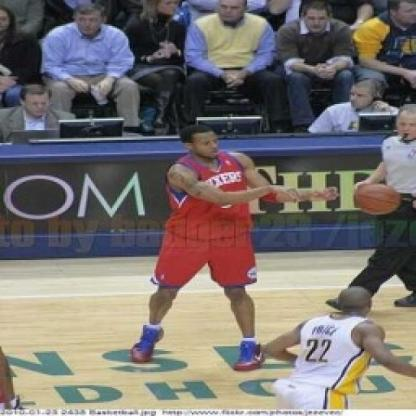basketball: (350, 179, 400, 218)
